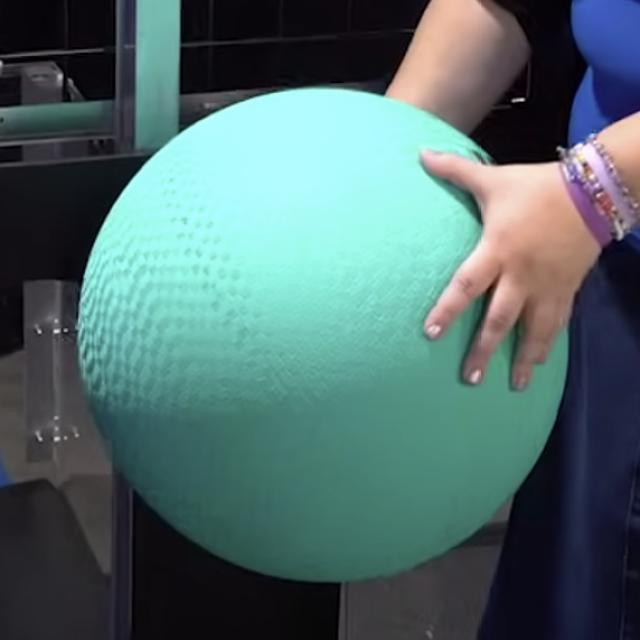Algae: (80, 89, 569, 582)
